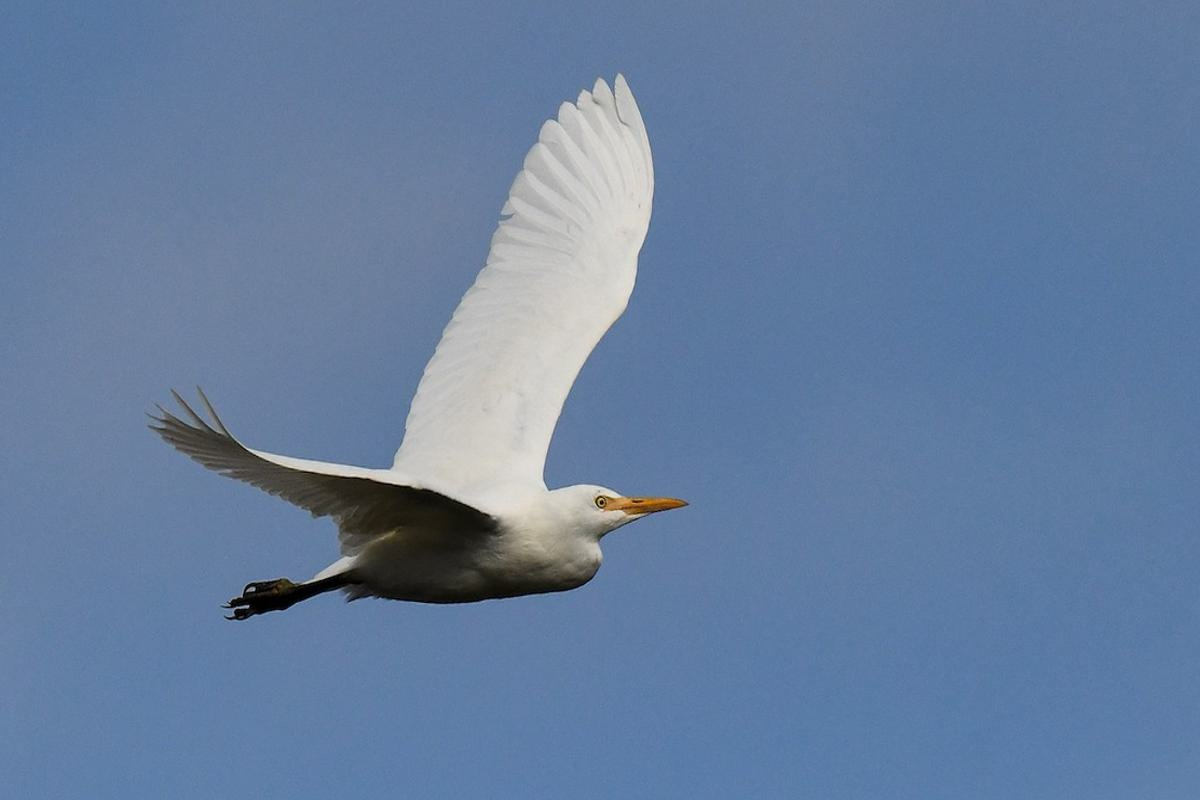egret: (190, 72, 706, 703)
